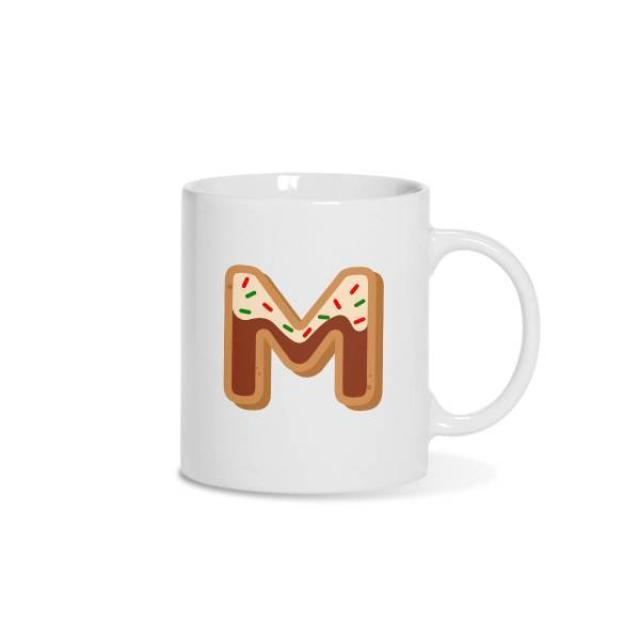Coffee Mug: (178, 171, 542, 497)
